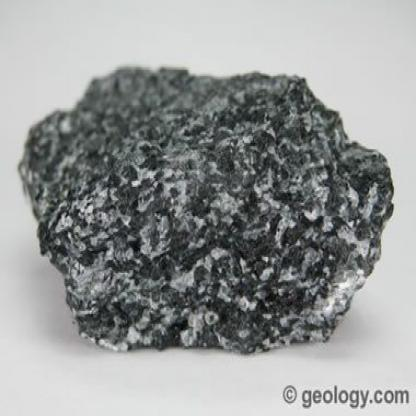Metamorphic_Quartize: (116, 158, 347, 261)
